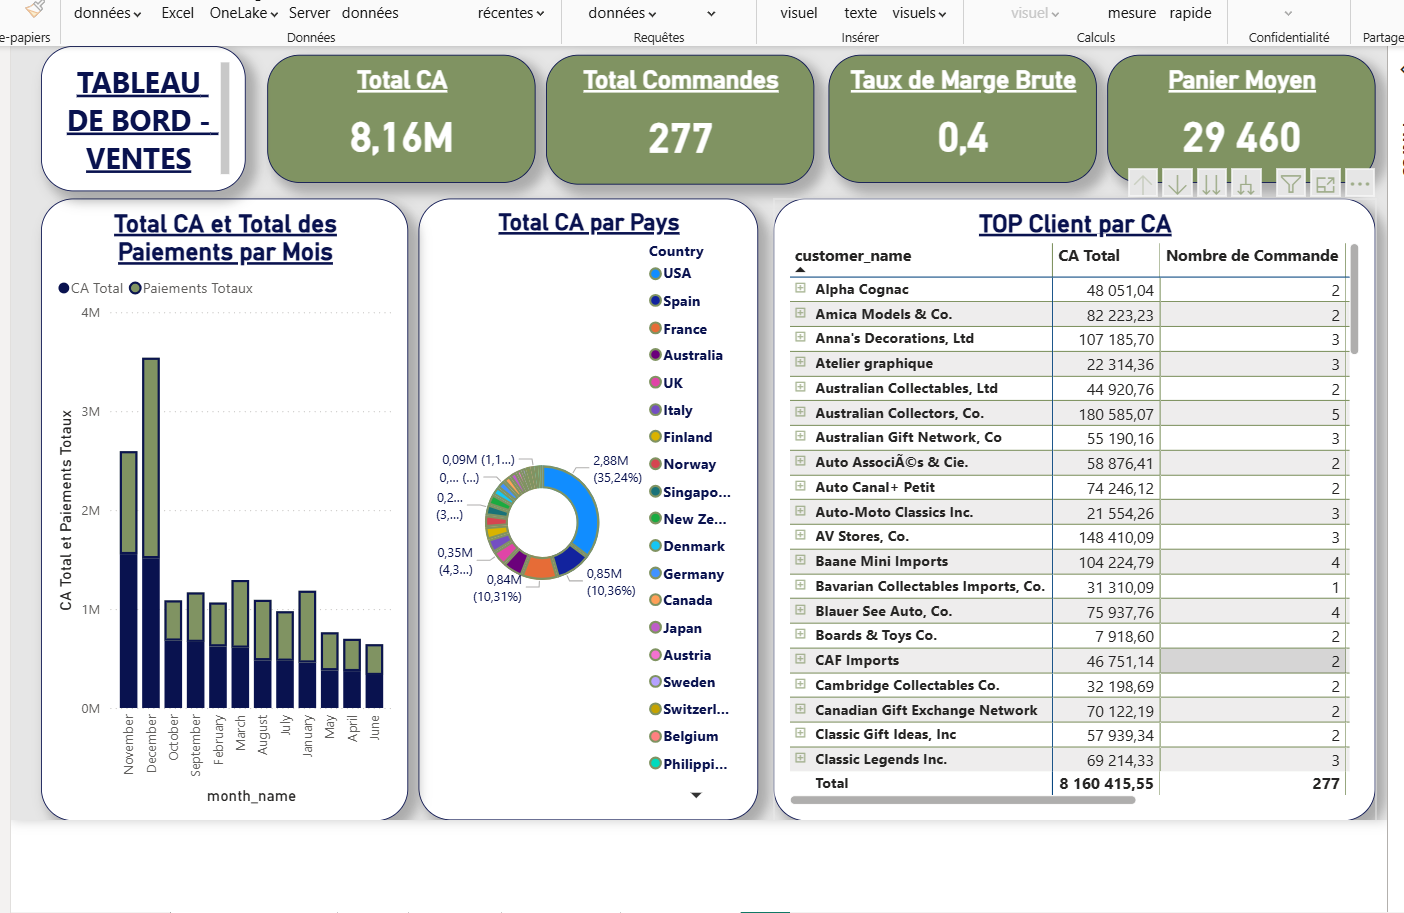

What the dashboard file says about the page in this screenshot:
{"tool":"powerbi","page":{"name":"SALES","canvas":[1280,720],"ordinal":2},"visuals":[{"type":"card","title":"Total CA","fields":{"Values":["_MEASURES.Total Revenue"]},"box":[238.8,8.2,249.7,119.4],"z":0},{"type":"card","title":"Total Commandes","fields":{"Values":["_MEASURES.Total Orders"]},"box":[498.1,8.2,249.7,120.8],"z":1000},{"type":"card","title":"Taux de Marge Brute","fields":{"Values":["_MEASURES.Gross Margin %"]},"box":[760.2,8.2,249.7,119.4],"z":2000},{"type":"card","title":"Panier Moyen","fields":{"Values":["_MEASURES.Average Basket"]},"box":[1019.6,8.2,249.7,119.4],"z":3000},{"type":"donutChart","title":"Total CA par Pays","fields":{"Category":["toys_and_models dim_customers.country"],"Y":["_MEASURES.Total Revenue"]},"box":[378.6,141.4,315.7,578.6],"z":4000},{"type":"columnChart","title":"Total CA et Total des Paiements par Mois","fields":{"Category":["toys_and_models dim_dates.month_name"],"Y":["_MEASURES.Total Revenue","_MEASURES.Total Payments"]},"box":[27.4,141.3,341.7,579.1],"z":5000},{"type":"pivotTable","title":"TOP Client par CA","fields":{"Rows":["toys_and_models dim_customers.customer_name","toys_and_models dim_customers.country"],"Values":["_MEASURES.Total Revenue","_MEASURES.Total Orders","_MEASURES.Gross Margin %"]},"box":[709.4,141.3,559.9,579.1],"z":6000},{"type":"textbox","box":[27.4,0,190.7,135],"z":7000}]}

Visuals, with their boxes on the page's 1280x720 design canvas (x1, y1, x2, y2). These are canvas units, not pixel positions in the 1404x913 screenshot, which may show the page scaled, cropped or inside an application window:
"Total CA" card: [x1=239, y1=8, x2=488, y2=128]
"Total Commandes" card: [x1=498, y1=8, x2=748, y2=129]
"Taux de Marge Brute" card: [x1=760, y1=8, x2=1010, y2=128]
"Panier Moyen" card: [x1=1020, y1=8, x2=1269, y2=128]
"Total CA par Pays" donutChart: [x1=379, y1=141, x2=694, y2=720]
"Total CA et Total des Paiements par Mois" columnChart: [x1=27, y1=141, x2=369, y2=720]
"TOP Client par CA" pivotTable: [x1=709, y1=141, x2=1269, y2=720]
textbox: [x1=27, y1=0, x2=218, y2=135]
